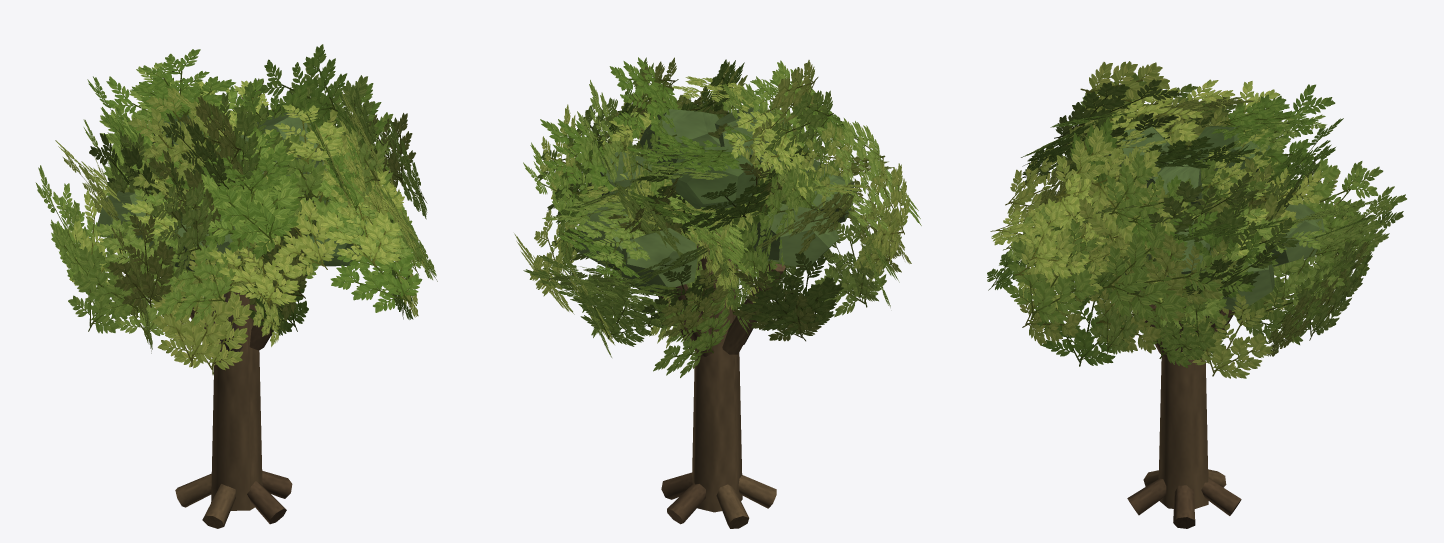
Rendered from oak.glb.
The picture shows the model from 3 angles, left to right: view 1: azimuth 30°, elevation 25°; view 2: azimuth 150°, elevation 25°; view 3: azimuth 270°, elevation 25°; orthographic projection. The views are drawn at different scales.
Visible parts, largest first — view 1: oak; view 2: oak; view 3: oak.
Boxes of the visible parts, <box> form: oak: <box>35,44,437,528</box>; oak: <box>514,57,921,528</box>; oak: <box>987,61,1406,528</box>.
Bounding box in the file's own units: 4.03 × 4.94 × 4.49.
3 materials, 3 textured.
